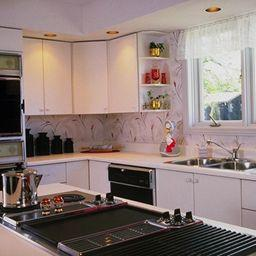Electrodomestico: (13, 207, 254, 255), (113, 165, 157, 207)
Lavaplatos: (166, 140, 255, 176)
